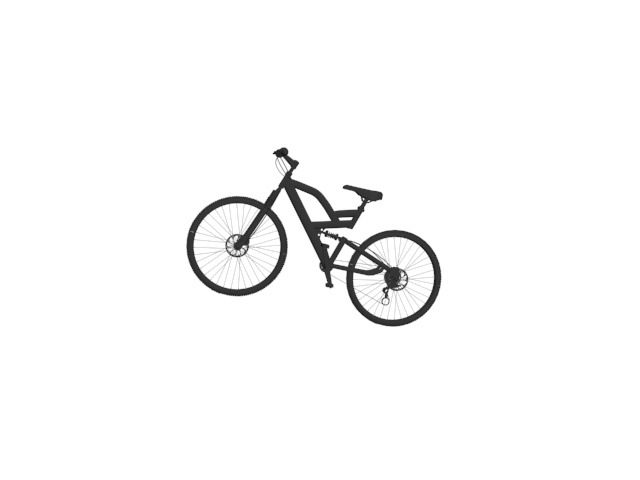bike: (185, 145, 448, 328)
